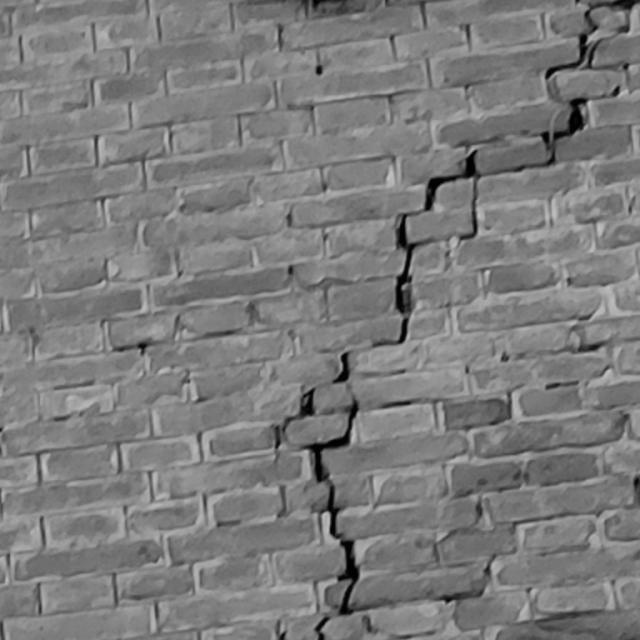crack: (272, 1, 638, 640)
